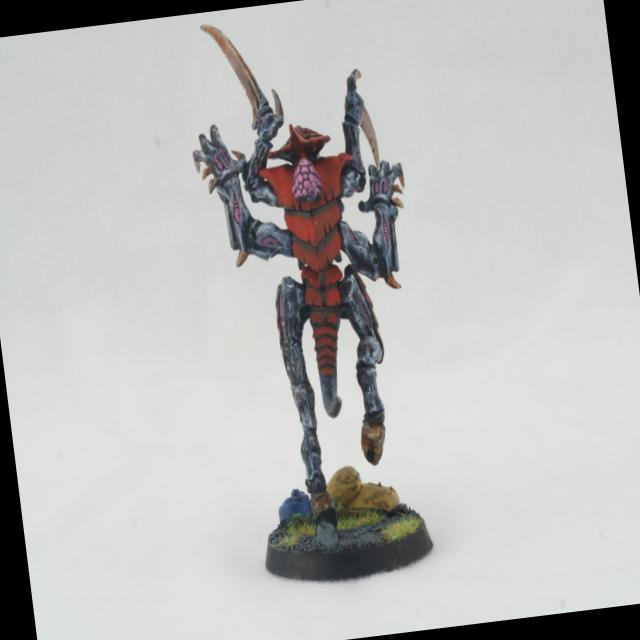Toy: (176, 1, 452, 592)
